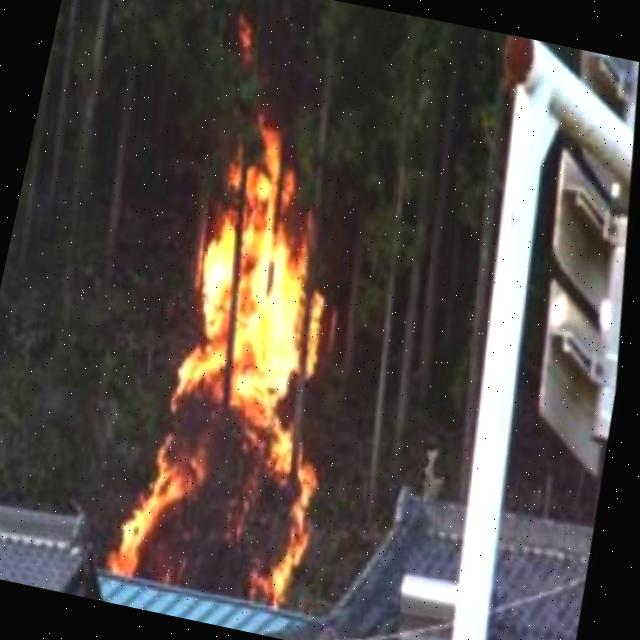fire: (51, 96, 410, 623)
